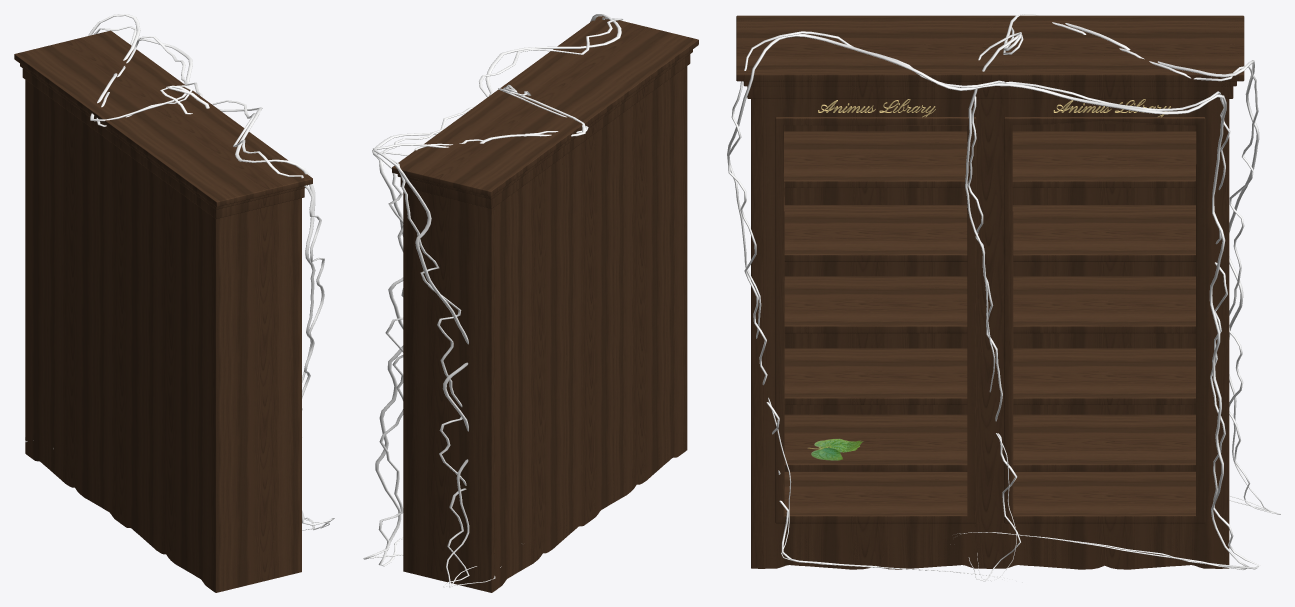
Rendered from bookshelf.glb.
3 renders of one model, left to right at view 1: azimuth 30°, elevation 25°; view 2: azimuth 150°, elevation 25°; view 3: azimuth 270°, elevation 25°, orthographic. The views are drawn at different scales.
Parts seen in each view (by area): view 1: Book case 1.001, Climbing Vine Geometry Node.001, Climbing Vine Geometry Node; view 2: Book case 1.001, Climbing Vine Geometry Node.001, Climbing Vine Geometry Node; view 3: Book case 1.001, Climbing Vine Geometry Node.001, Climbing Vine Geometry Node.
Boxes of the visible parts, x1=… form: Book case 1.001: x1=14, y1=30, x2=312, y2=592; Climbing Vine Geometry Node.001: x1=135, y1=36, x2=334, y2=530; Climbing Vine Geometry Node: x1=25, y1=14, x2=209, y2=448; Book case 1.001: x1=392, y1=16, x2=698, y2=592; Climbing Vine Geometry Node.001: x1=363, y1=14, x2=622, y2=566; Climbing Vine Geometry Node: x1=373, y1=84, x2=588, y2=588; Book case 1.001: x1=736, y1=15, x2=1244, y2=569; Climbing Vine Geometry Node.001: x1=727, y1=31, x2=1260, y2=581; Climbing Vine Geometry Node: x1=965, y1=14, x2=1280, y2=581.
Bounding box in the file's own units: 0.7292 × 2.07 × 1.89.
Materials: 7 (5 with a texture image).
